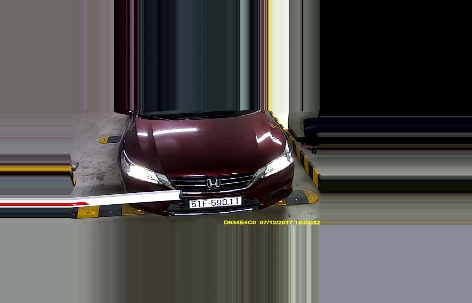plate: (187, 195, 247, 210)
